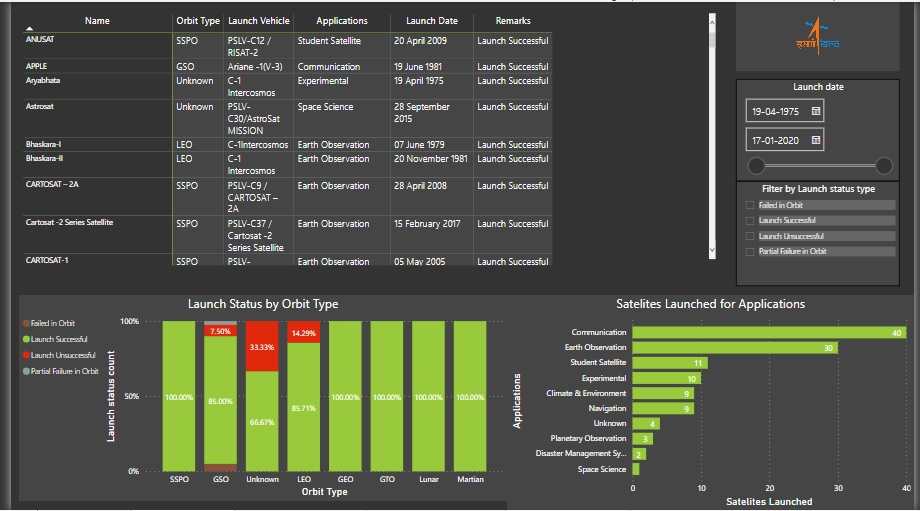

Layout of this report page (visuals, bound fields, positions):
{"tool":"powerbi","page":{"name":"Spacecrafts","canvas":[1280,720],"ordinal":1},"visuals":[{"type":"barChart","title":"Satelites Launched for Applications","fields":{"Category":["spacecrafts.Applications"],"Y":["CountNonNull(spacecrafts.SN)"]},"box":[702.7,414.7,577.4,305.3],"z":0},{"type":"slicer","title":"Launch date","fields":{"Values":["spacecrafts.Launch Date"]},"box":[1028.2,97.9,231.8,96.5],"z":1},{"type":"hundredPercentStackedColumnChart","title":"Launch Status by Orbit Type","fields":{"Category":["spacecrafts.Orbit Type"],"Series":["spacecrafts.Remarks"],"Y":["CountNonNull(spacecrafts.SN)"]},"box":[11.5,403.2,702.7,303.8],"z":2},{"type":"pivotTable","fields":{"Rows":["spacecrafts.Name"],"Values":["Min(spacecrafts.Orbit Type)","Min(spacecrafts.Launch Vehicle)","Min(spacecrafts.Applications)","Min(spacecrafts.Launch Date)","Min(spacecrafts.Remarks)"]},"box":[11.5,11.5,992.2,367.2],"z":3},{"type":"slicer","title":"Filter by Launch status type","fields":{"Values":["spacecrafts.Remarks"]},"box":[1028.2,229,231.8,149.8],"z":4},{"type":"image","box":[1087.2,0,172.8,97.9],"z":5}]}

Visuals, with their boxes in screenshot pixels (x1, y1, x2, y2), scaled from the page's 1280x720 canvas onto the 920x511 screenshot:
"Satelites Launched for Applications" barChart: <region>505, 294, 919, 510</region>
"Launch date" slicer: <region>739, 69, 906, 138</region>
"Launch Status by Orbit Type" hundredPercentStackedColumnChart: <region>8, 286, 513, 502</region>
pivotTable - spacecrafts.Name x Min(spacecrafts.Orbit Type): <region>8, 8, 721, 269</region>
"Filter by Launch status type" slicer: <region>739, 163, 906, 269</region>
image: <region>781, 0, 906, 69</region>
